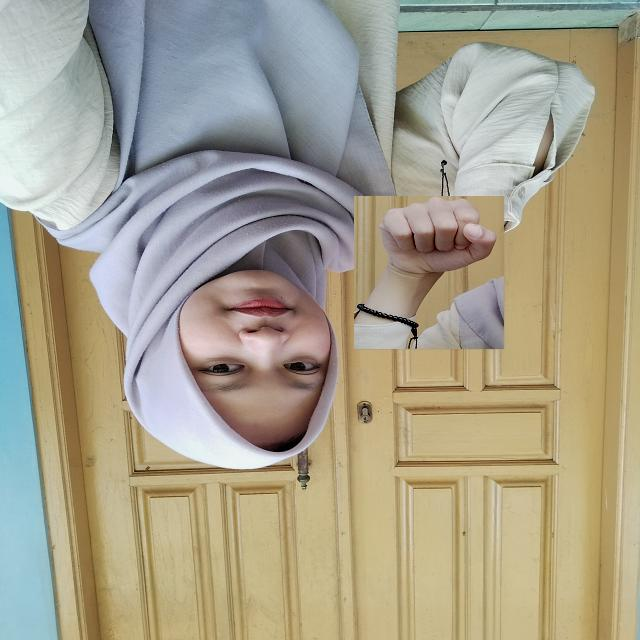baik: (354, 196, 505, 350)
